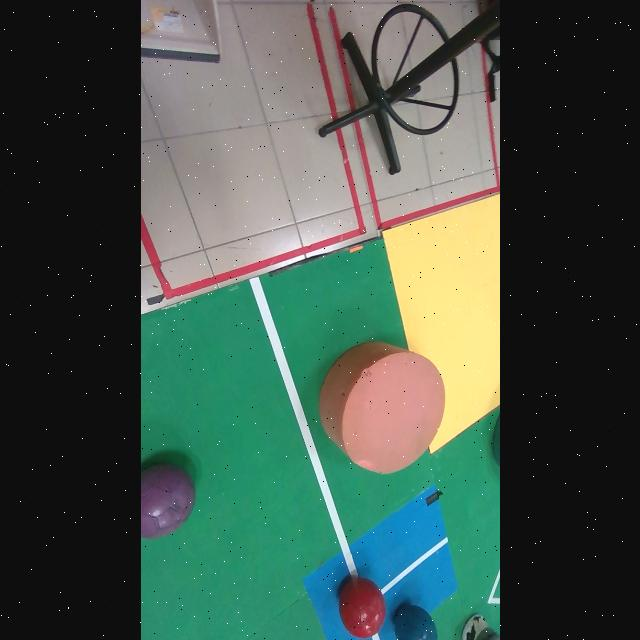B: (394, 603, 438, 640)
P: (140, 464, 194, 540)
R: (339, 578, 385, 638)
